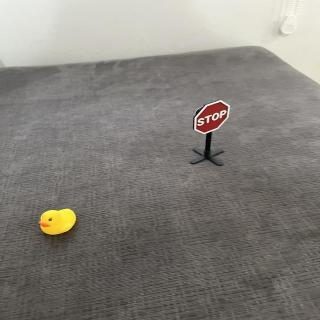duck_regular: (38, 207, 81, 237)
sign_stop: (194, 99, 232, 136)
